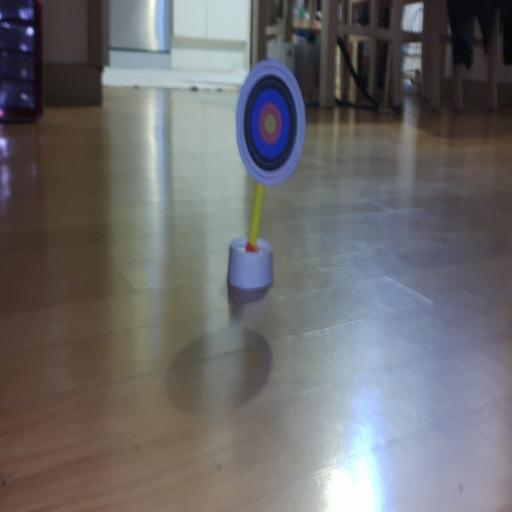target: (236, 60, 305, 186)
